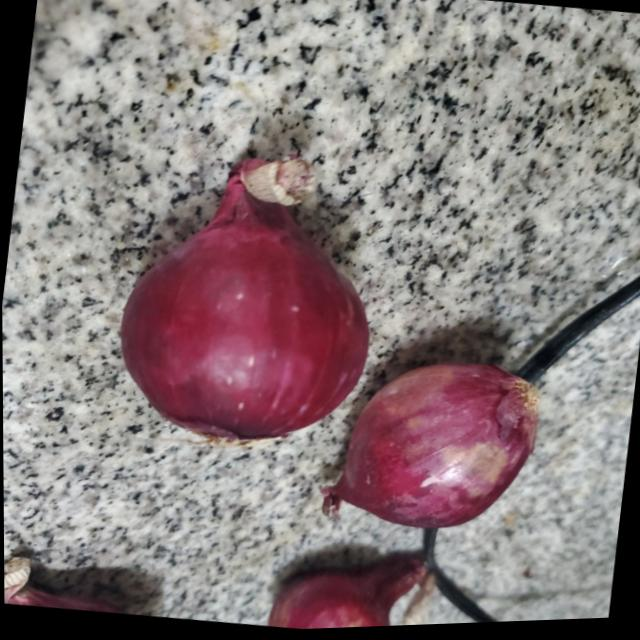onion: (95, 138, 401, 464), (314, 353, 555, 545), (267, 542, 438, 632)
